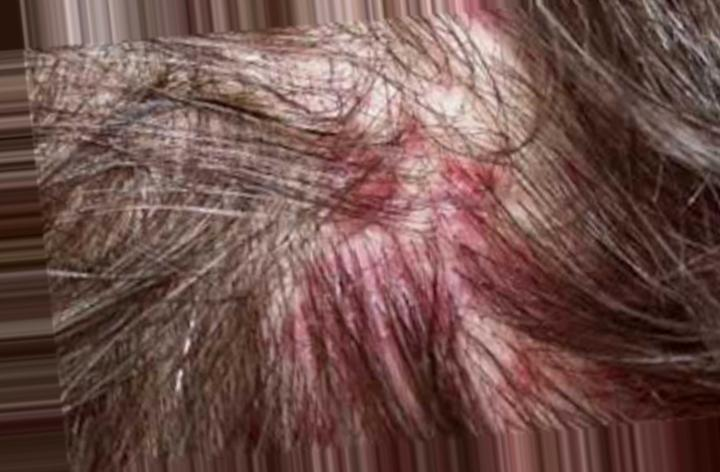Folliculitis: (298, 101, 504, 384)
